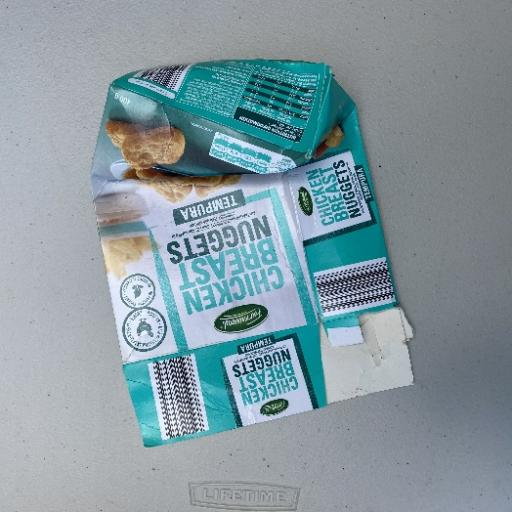Cardboard: (89, 58, 416, 448)
